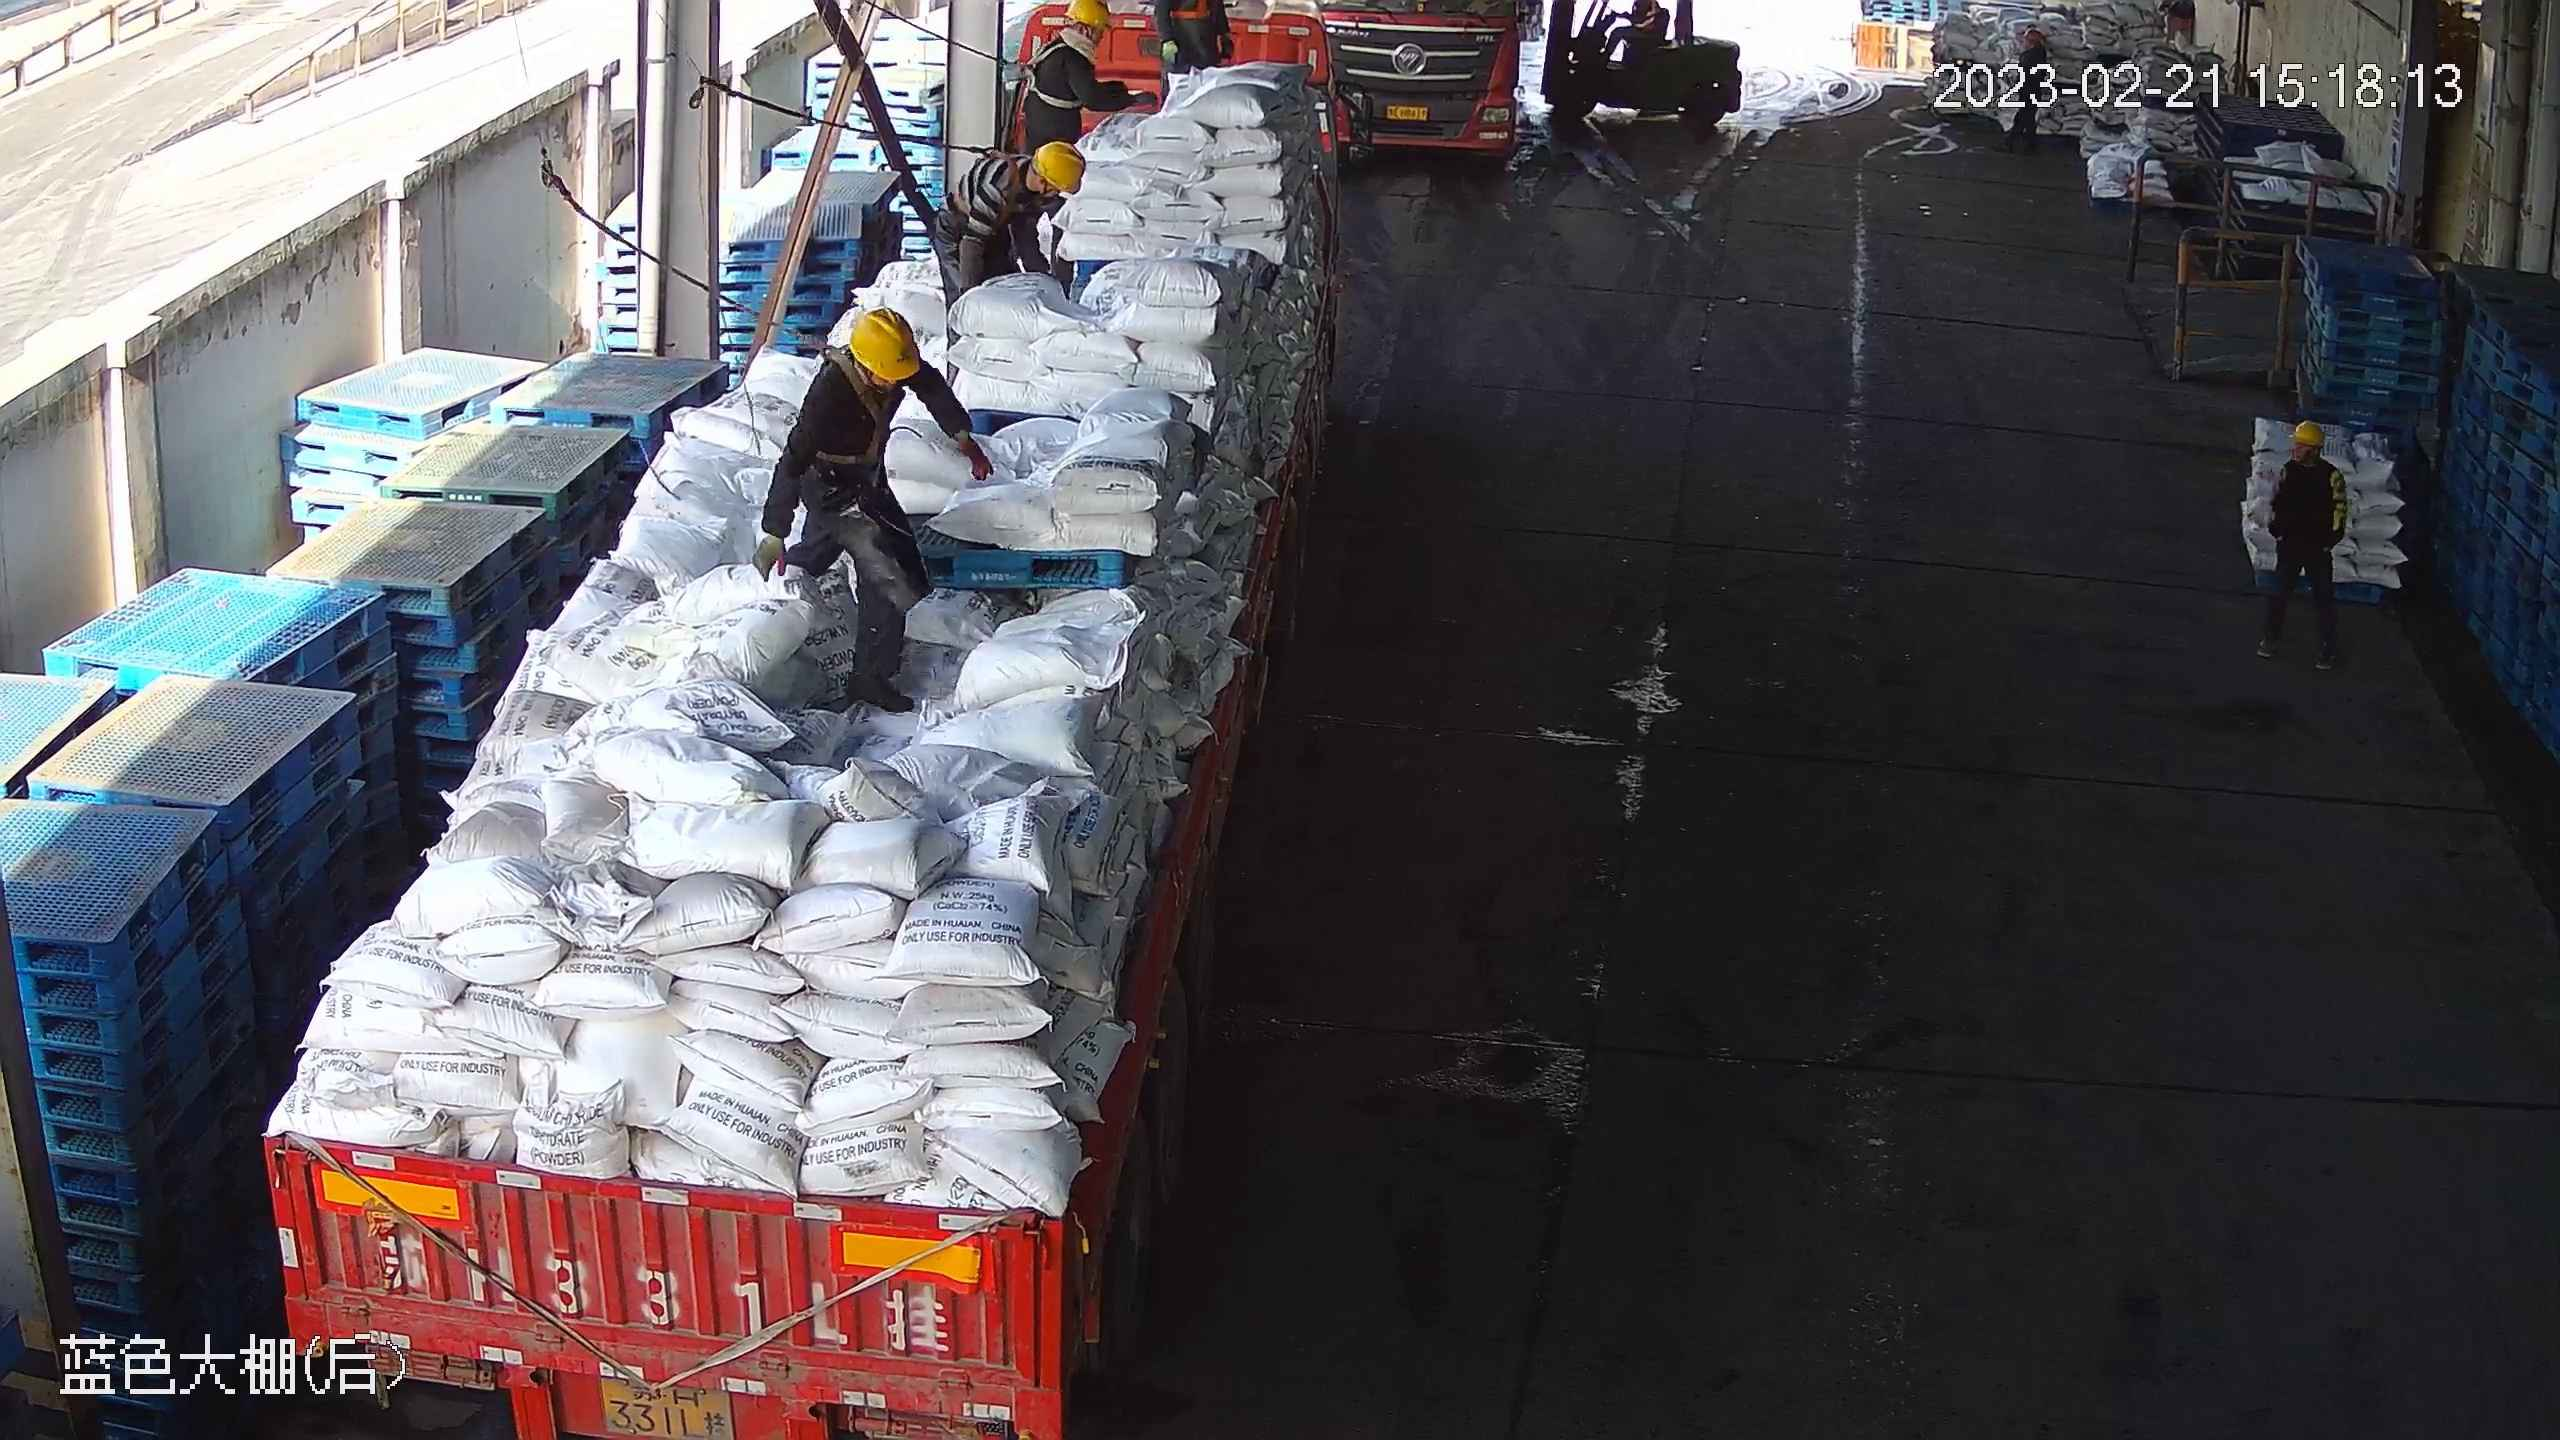belt: (806, 335, 886, 474), (1004, 39, 1082, 119), (974, 139, 1030, 224)
head: (811, 310, 951, 422), (1023, 2, 1119, 105), (984, 143, 1088, 221), (2264, 422, 2346, 503)
helmet: (851, 307, 921, 378), (1028, 143, 1084, 196), (1065, 1, 1111, 28), (2290, 420, 2323, 447)
people: (750, 308, 994, 708), (934, 142, 1089, 380), (2255, 418, 2346, 676)
truck: (260, 1, 1393, 1437), (1313, 1, 1551, 174)
